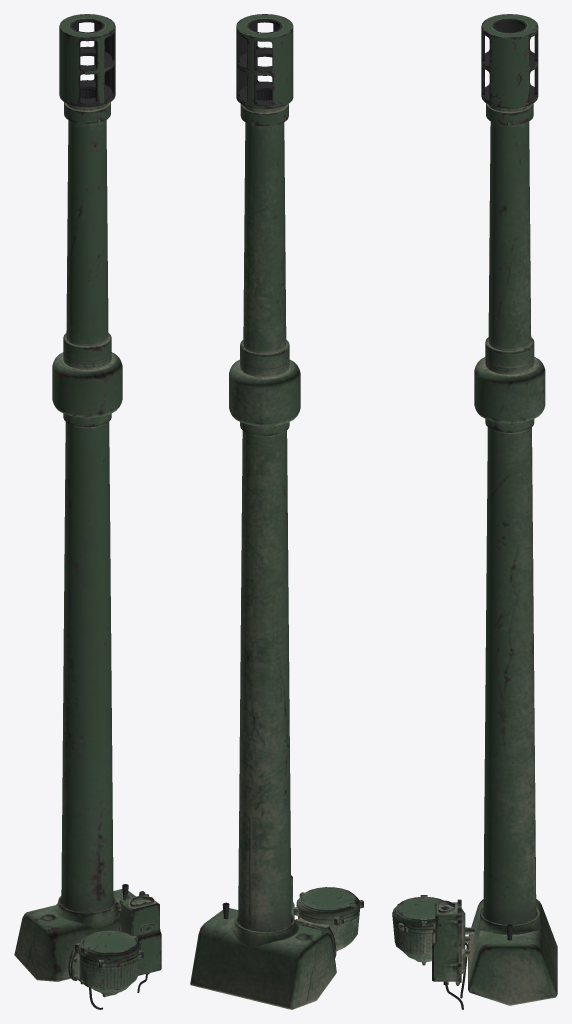
The model's file is Gun_02.glb.
3 views of the same model, side by side, from view 1: azimuth 30°, elevation 25°; view 2: azimuth 150°, elevation 25°; view 3: azimuth 270°, elevation 25° (orthographic). The views are drawn at different scales.
Visible parts, largest first — view 1: set_0_group_0; view 2: set_0_group_0; view 3: set_0_group_0.
Boxes of the visible parts, left/top/right/bottom form: set_0_group_0: left=14, top=14, right=161, bottom=1009; set_0_group_0: left=190, top=14, right=363, bottom=1009; set_0_group_0: left=392, top=14, right=557, bottom=1009.
Size of the model in its own units: 0.66 by 5.95 by 0.9136.
Materials: 1 (1 with a texture image).
